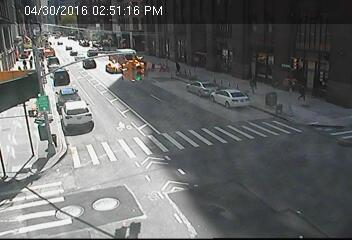neg: (80, 45, 120, 98), (186, 126, 216, 166), (90, 189, 119, 227), (148, 112, 176, 149), (18, 127, 46, 164), (146, 189, 172, 224), (243, 182, 266, 212), (274, 146, 297, 176), (206, 31, 229, 61), (80, 134, 102, 164), (283, 39, 305, 68)
pos: (245, 73, 262, 96), (171, 58, 187, 78), (294, 85, 307, 102)
